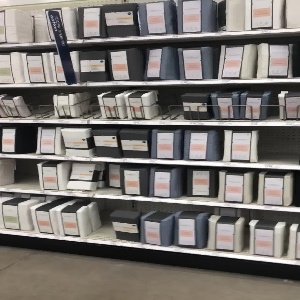void: (84, 195, 118, 240), (257, 127, 300, 161), (1, 158, 39, 195), (150, 84, 183, 122), (25, 86, 53, 119), (78, 86, 101, 123)
